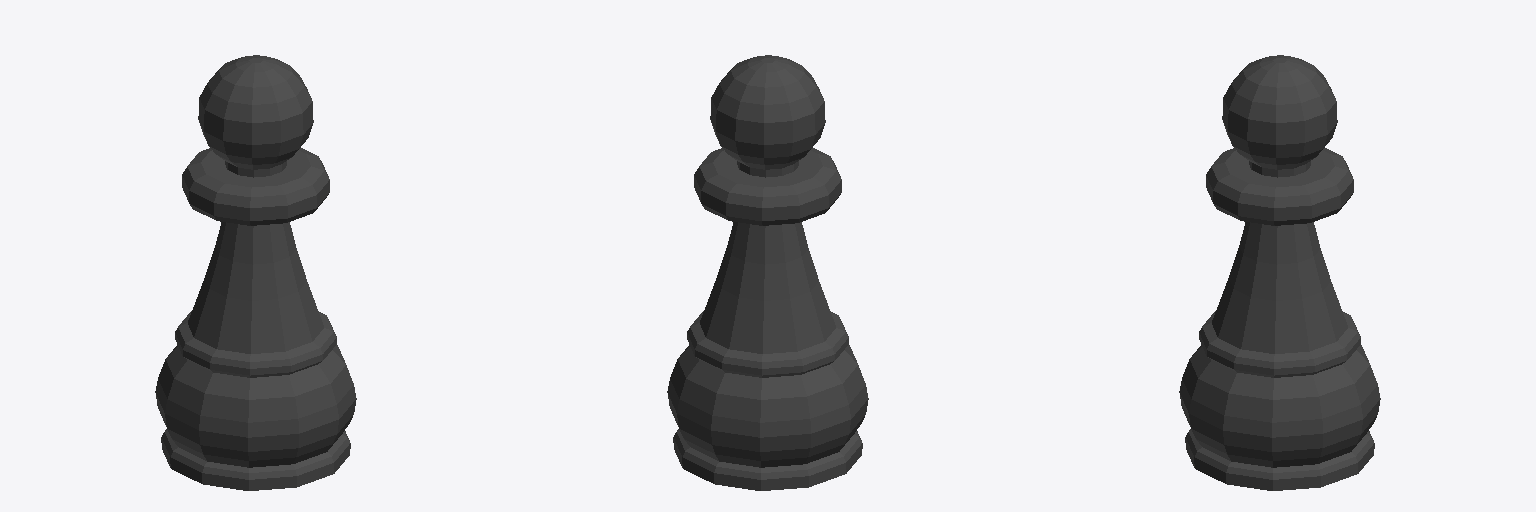
3 views of the same model, side by side, from view 1: azimuth 30°, elevation 25°; view 2: azimuth 150°, elevation 25°; view 3: azimuth 270°, elevation 25° (orthographic).
Parts seen in each view (by area): view 1: _PawnFBXASC046006; view 2: _PawnFBXASC046006; view 3: _PawnFBXASC046006.
Part boxes in pixels (x1,y1,x2,y2): _PawnFBXASC046006: (155,55,356,490); _PawnFBXASC046006: (667,55,868,490); _PawnFBXASC046006: (1179,55,1380,490).
Size of the model in its own units: 2.05 by 4.4 by 2.05.